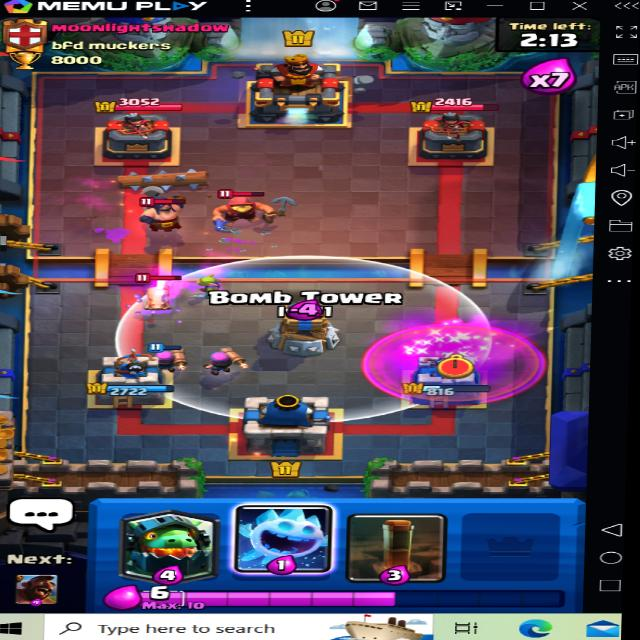Executioner: (136, 186, 198, 237)
Fisherman: (205, 191, 287, 232)
Pig: (137, 273, 178, 314)
Rage: (361, 324, 546, 400)
